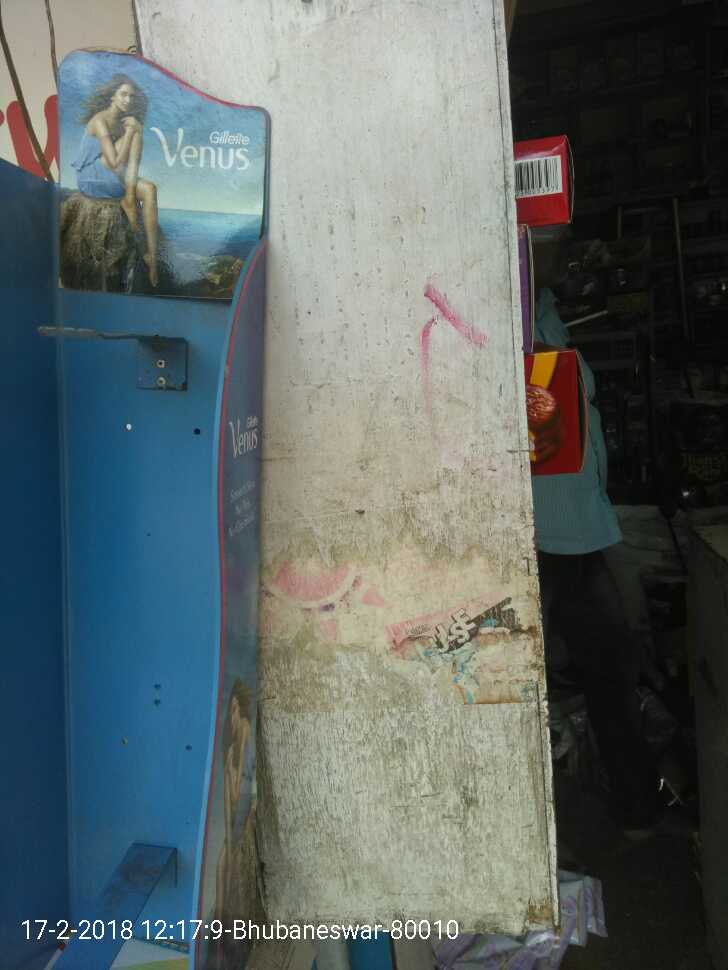reject: (161, 286, 306, 503)
